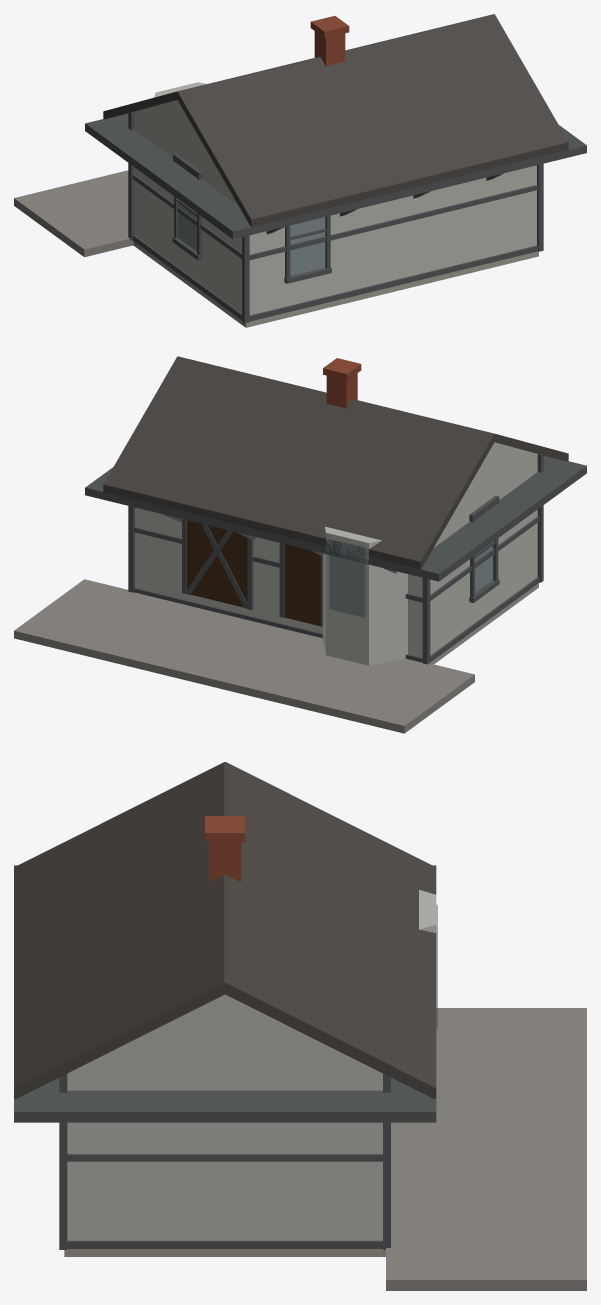
The model's file is Standard_01_Depot.glb.
3 renders of one model, top to bottom at view 1: azimuth 30°, elevation 25°; view 2: azimuth 150°, elevation 25°; view 3: azimuth 270°, elevation 25°, orthographic. The views are drawn at different scales.
Parts seen in each view (by area): view 1: roof, walls, trim, platform, foundation, glass, sash, chimney; view 2: roof, platform, walls, trim, doors, glass, chimney, sash, foundation; view 3: roof, walls, platform, trim, foundation, chimney.
Part boxes in pixels (bbox=[...]): roof: bbox=[103, 14, 568, 227]; walls: bbox=[134, 82, 536, 315]; trim: bbox=[85, 112, 586, 323]; platform: bbox=[14, 170, 133, 257]; foundation: bbox=[133, 241, 538, 327]; glass: bbox=[178, 203, 325, 276]; sash: bbox=[172, 153, 331, 283]; chimney: bbox=[310, 16, 349, 65]; roof: bbox=[103, 356, 568, 569]; platform: bbox=[14, 579, 474, 733]; walls: bbox=[135, 442, 537, 665]; trim: bbox=[85, 454, 586, 664]; doors: bbox=[187, 520, 320, 626]; glass: bbox=[329, 539, 493, 617]; chimney: bbox=[323, 358, 361, 408]; sash: bbox=[469, 495, 499, 602]; foundation: bbox=[430, 583, 538, 664]; roof: bbox=[14, 762, 436, 1098]; walls: bbox=[67, 890, 436, 1240]; platform: bbox=[386, 1008, 586, 1290]; trim: bbox=[14, 865, 436, 1249]; foundation: bbox=[64, 1249, 385, 1256]; chimney: bbox=[205, 816, 245, 882].
Bounding box in the file's own units: 0.3363 × 0.1881 × 0.2996.
